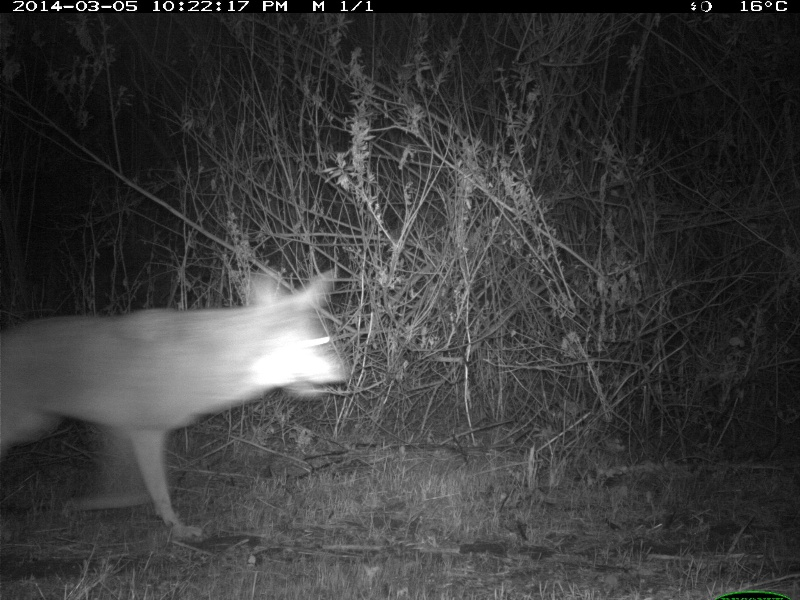coyote: (1, 266, 350, 548)
